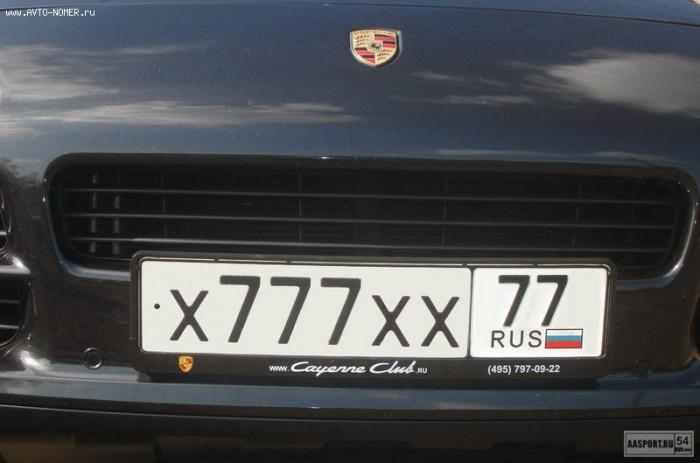license-plateSW: (133, 258, 609, 362), (626, 431, 697, 453)
